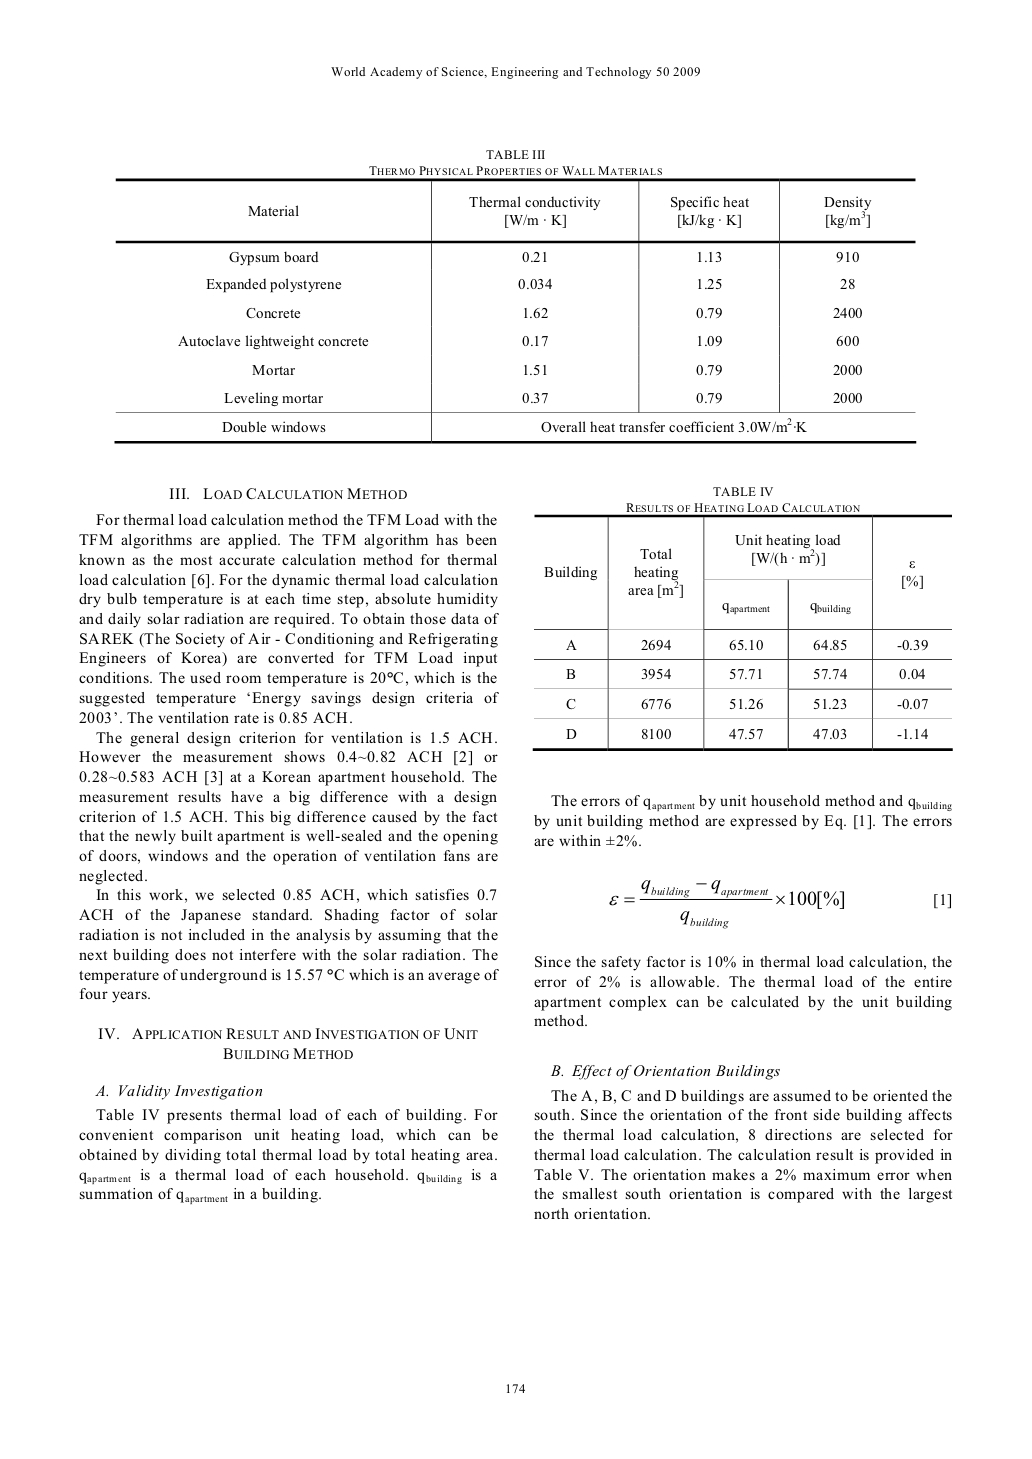Table: (114, 165, 916, 444), (532, 502, 952, 751)
formula: (609, 879, 950, 929)
